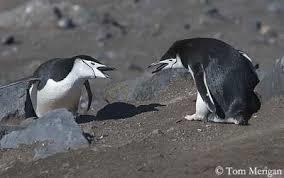chinstrap: (148, 35, 269, 127), (12, 47, 113, 128)
